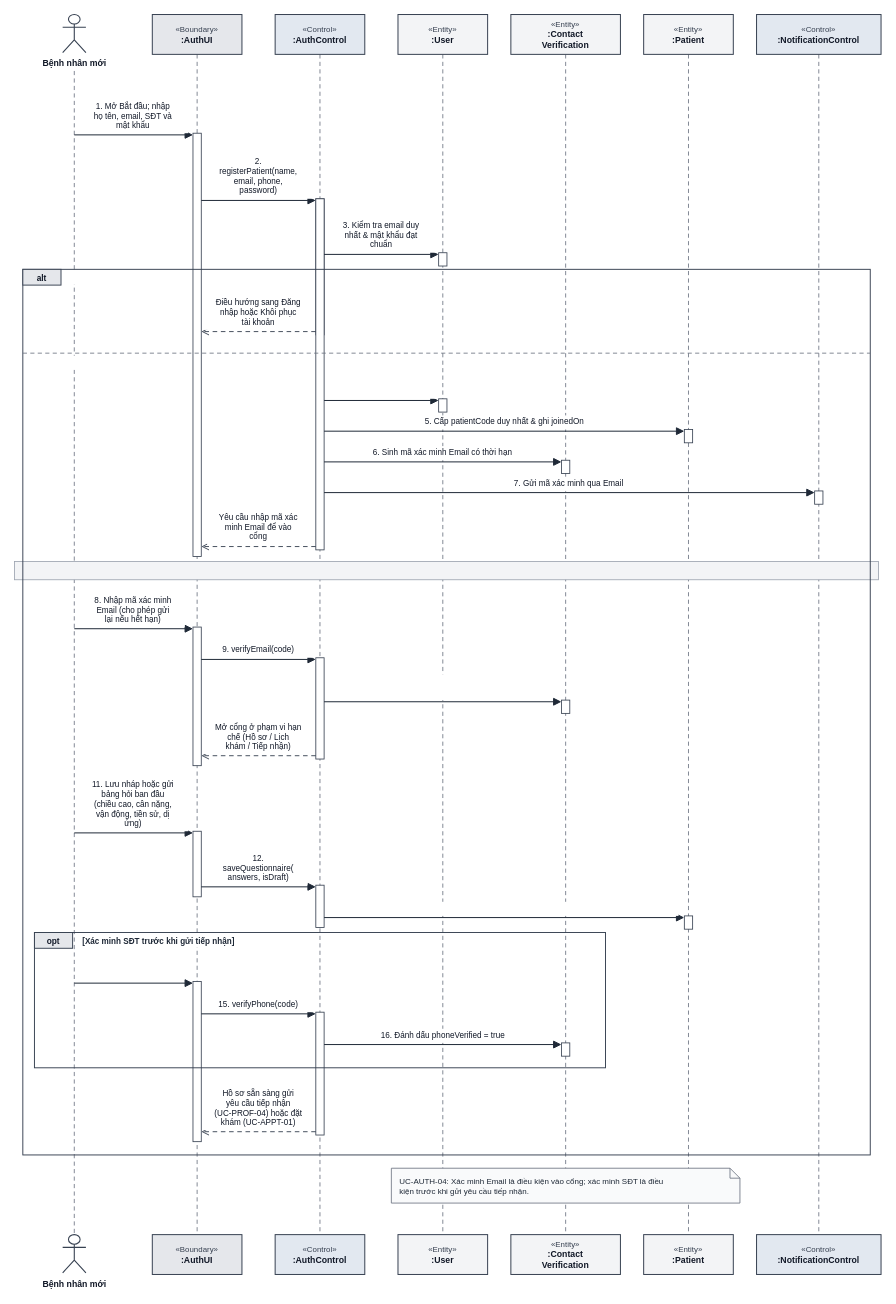
This 896x1304 diagram has some shape labels left out. The shapes that lost their labels are listed below. From the top down, each one's centre as x and y in pixels, then its label:
At (115,277): "[Email đã tồn tại]".
At (83,362): "[Email chưa tồn tại]".
At (381,385): "4. Tạo User (PATIENT, emailVerified=false)".
At (446,570): "Xác minh Email, hoàn tất bảng hỏi và xác minh SĐT".
At (443,687): "10. Đối chiếu mã & đánh dấu emailVerified = true".
At (504,908): "13. Cập nhật hồ sơ & tính BMI (chấp nhận 'Chưa rõ' cho bệnh lý/dị ứng)".
At (133,968): "14. Yêu cầu và xác nhận mã SĐT".
